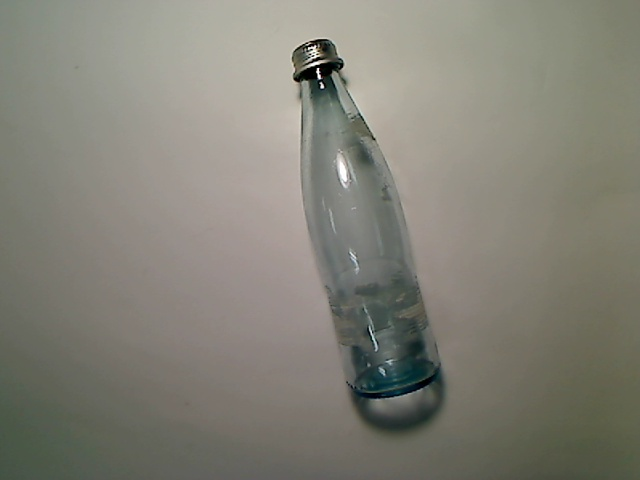bottle: (291, 38, 441, 400)
